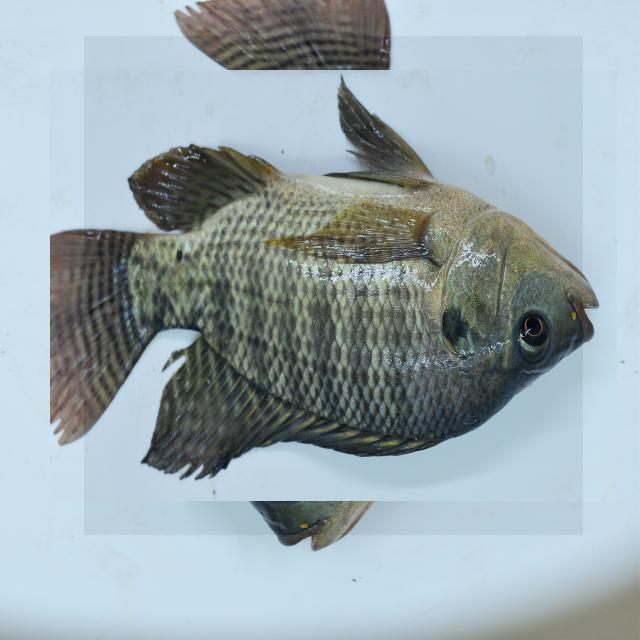Healthy Fish: (84, 36, 583, 535)
